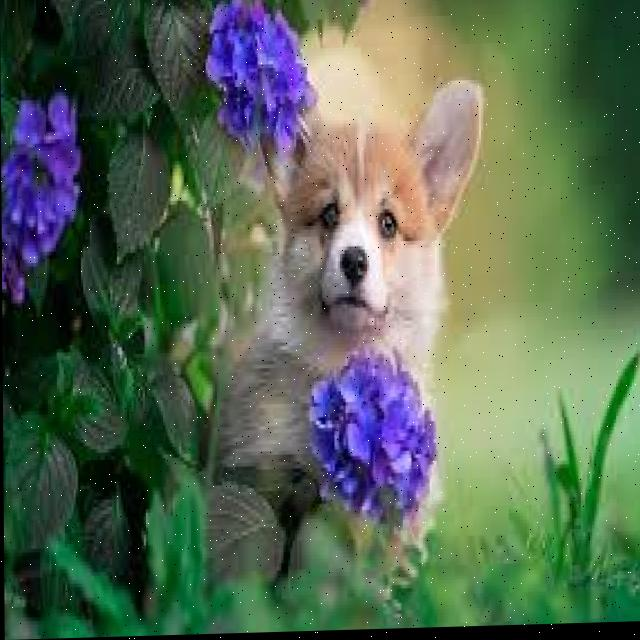CORGI: (232, 14, 478, 576)
